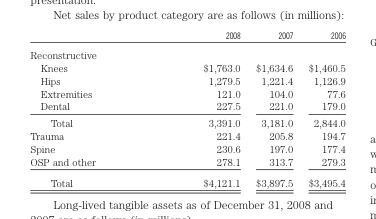table: (29, 29, 344, 187)
table column: (29, 29, 148, 187), (148, 29, 247, 187), (247, 29, 300, 187), (300, 29, 344, 187)
table column header: (29, 29, 344, 44)
table projected row header: (29, 44, 344, 61)
table row: (29, 44, 344, 61), (29, 154, 344, 171), (29, 171, 344, 187), (29, 29, 344, 44), (29, 99, 344, 114), (29, 114, 344, 129), (29, 73, 344, 86), (29, 86, 344, 99), (29, 141, 344, 154), (29, 61, 344, 73), (29, 129, 344, 141)
